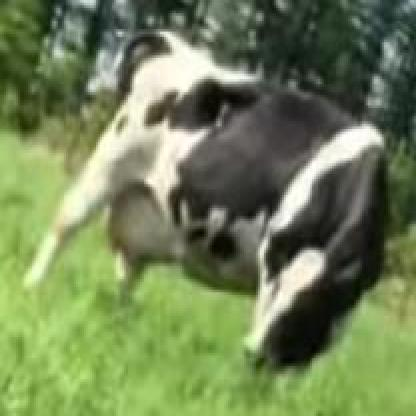cow: (26, 32, 390, 363)
